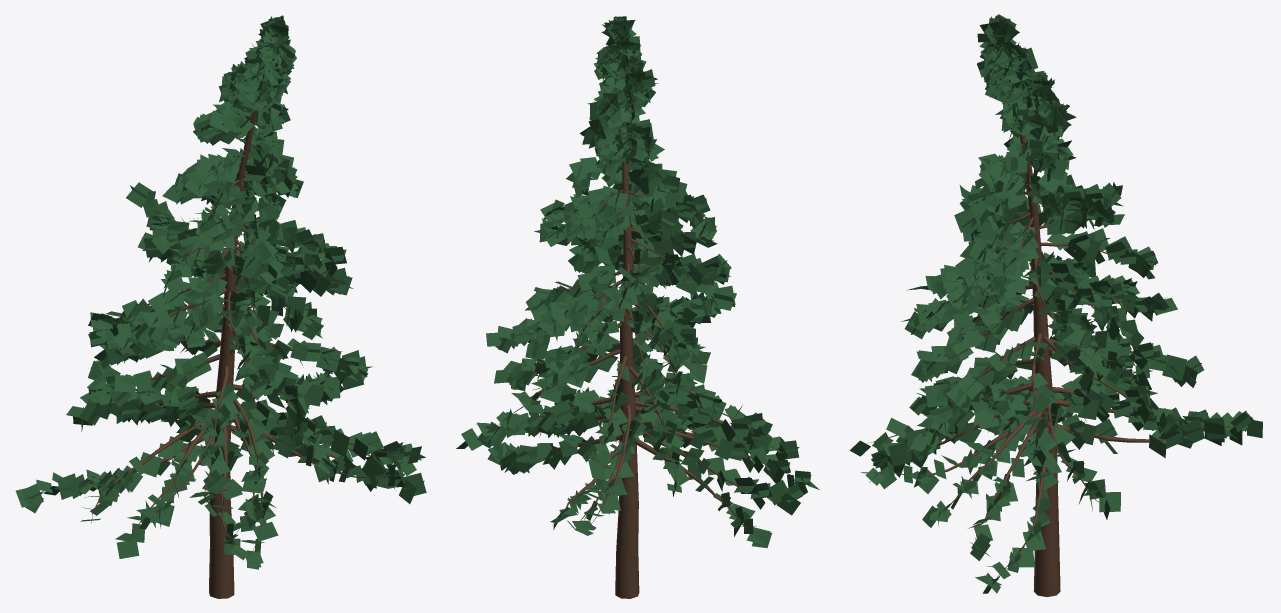
File: meadow-pine-a.glb
3 renders of one model, left to right at view 1: azimuth 30°, elevation 25°; view 2: azimuth 150°, elevation 25°; view 3: azimuth 270°, elevation 25°, orthographic. The views are drawn at different scales.
Parts seen in each view (by area): view 1: leaves, bark; view 2: leaves, bark; view 3: leaves, bark.
Part boxes in pixels (x1,y1,x2,y2): leaves: (15,15,426,569); bark: (40,110,407,598); leaves: (456,16,819,548); bark: (477,39,794,598); leaves: (850,14,1262,593); bark: (867,135,1234,596).
Bounding box in the file's own units: 32.34 × 51.27 × 32.82.
